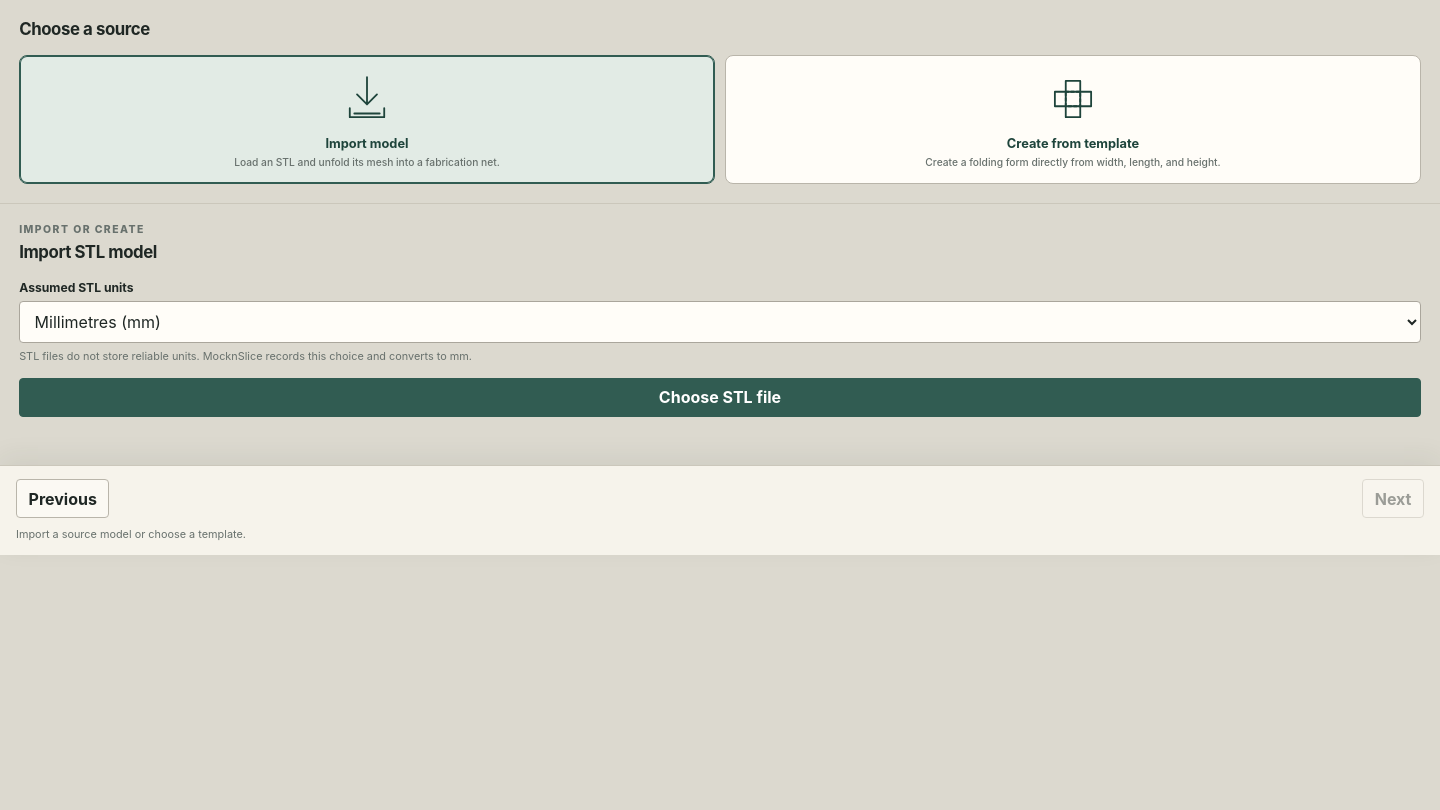
Test case: wizard workflow › switches between STL import and illustrated template creation
The image size is (1440, 810).
Expected: the heading "Import STL model" is shown, [19,242,157,262]
Step 1. Click the button "Create from template" → click(1073, 120), box [725,55,1421,184]
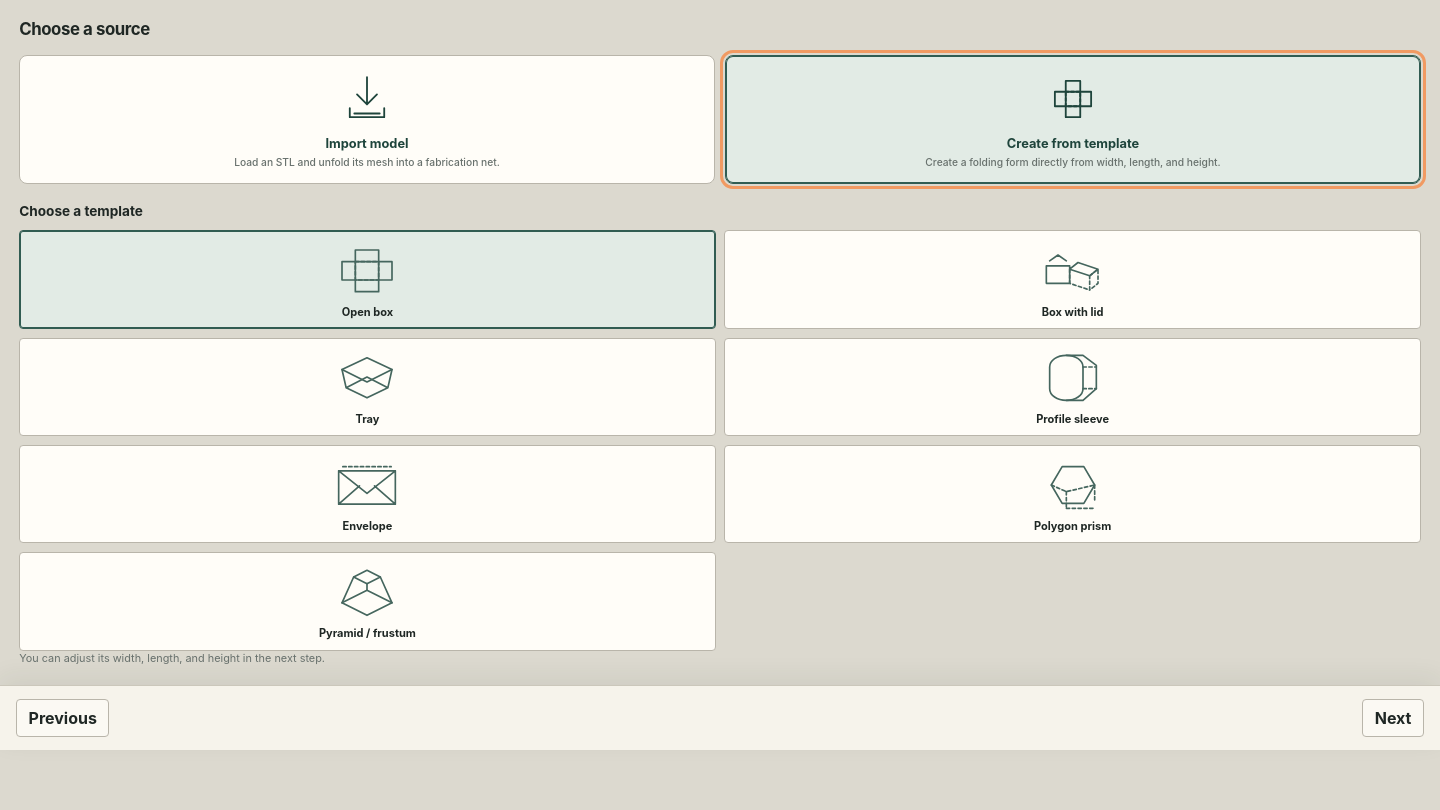
Now the number of icons with class "template-choice-icon" is 7
Step 2. Click the button "Profile sleeve" → click(1073, 387), box [724,338,1421,436]
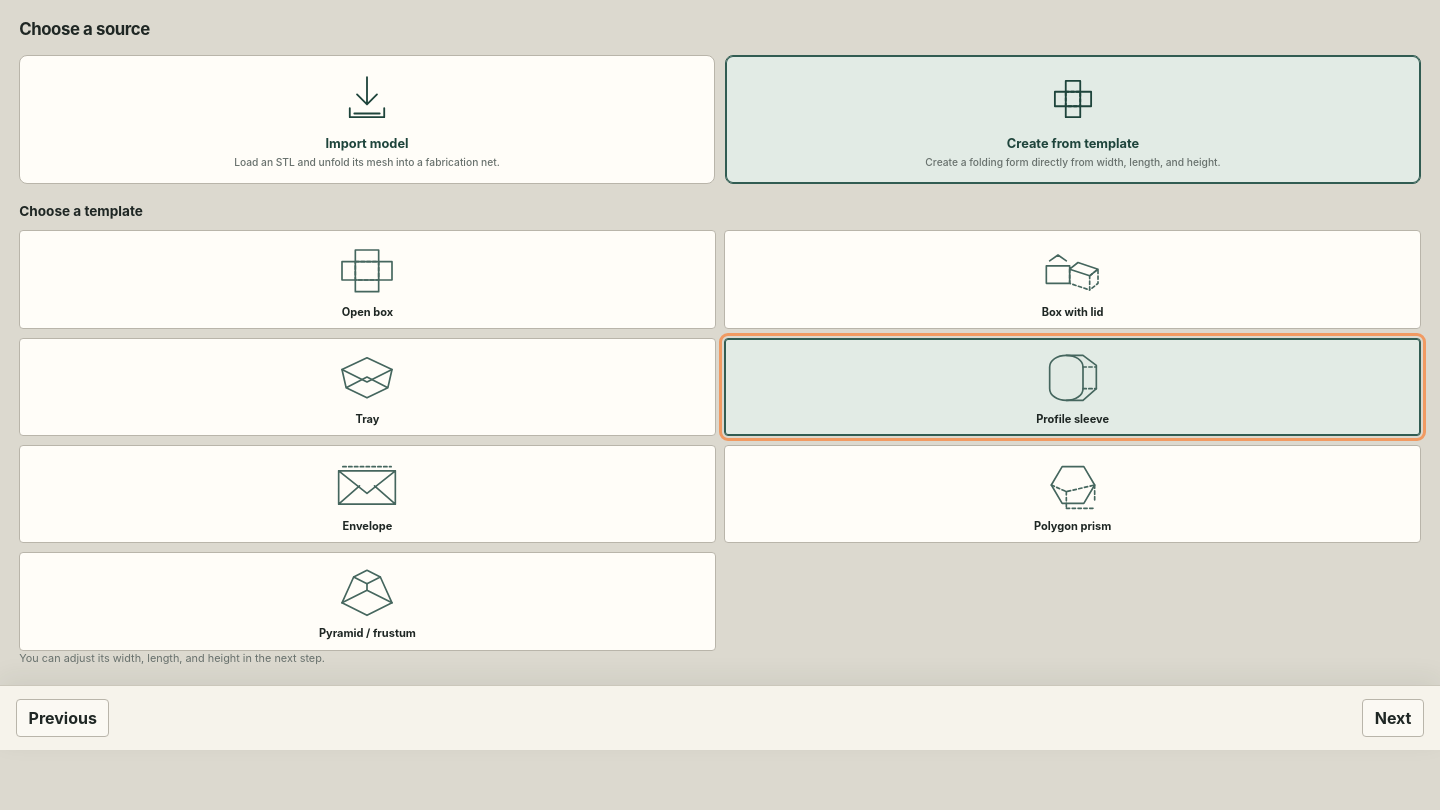
Step 3. Click the button "Import model" → click(367, 120), box [19,55,715,184]
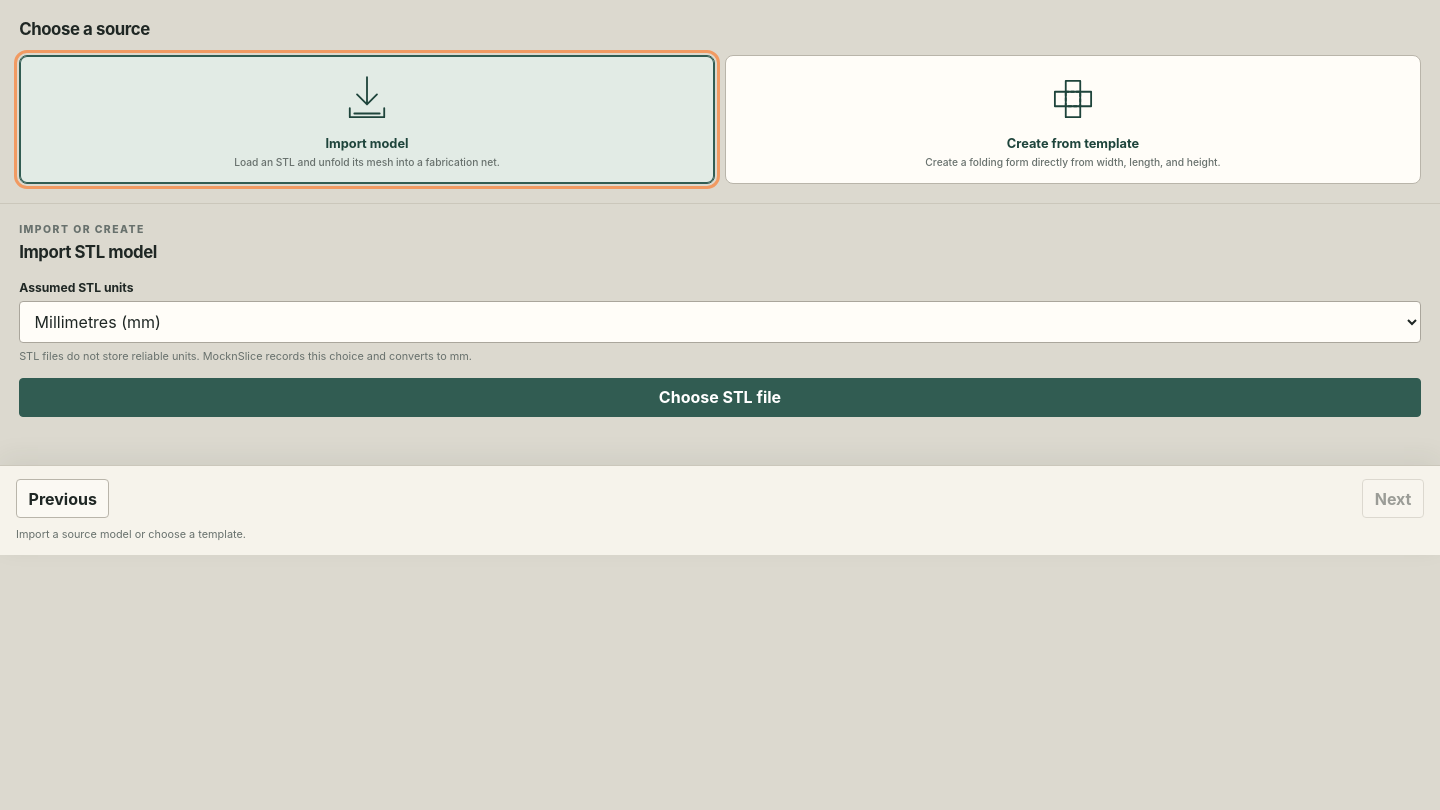
Now the heading "Import STL model" is shown, box [19,242,157,262]
